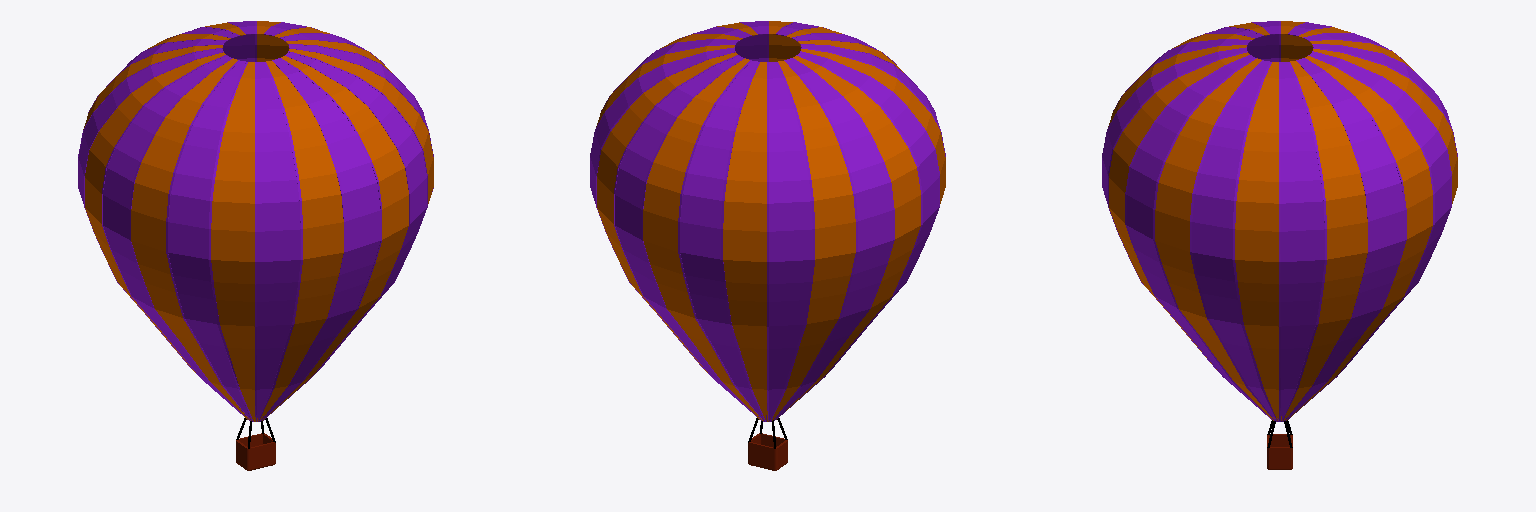
The model's file is balloon.obj.
3 renders of one model, left to right at view 1: azimuth 30°, elevation 25°; view 2: azimuth 150°, elevation 25°; view 3: azimuth 270°, elevation 25°, orthographic.
Visible parts, largest first — view 1: balloon_Plane, basket_Cube.001; view 2: balloon_Plane, basket_Cube.001; view 3: balloon_Plane, basket_Cube.001.
Boxes of the visible parts, box(x1,y1,x2,y2) form: balloon_Plane: box(78, 21, 433, 421); basket_Cube.001: box(236, 433, 275, 470); balloon_Plane: box(590, 21, 945, 421); basket_Cube.001: box(748, 433, 787, 470); balloon_Plane: box(1102, 21, 1457, 421); basket_Cube.001: box(1267, 434, 1292, 469).
Size of the model in its own units: 7.41 by 9.56 by 7.41.